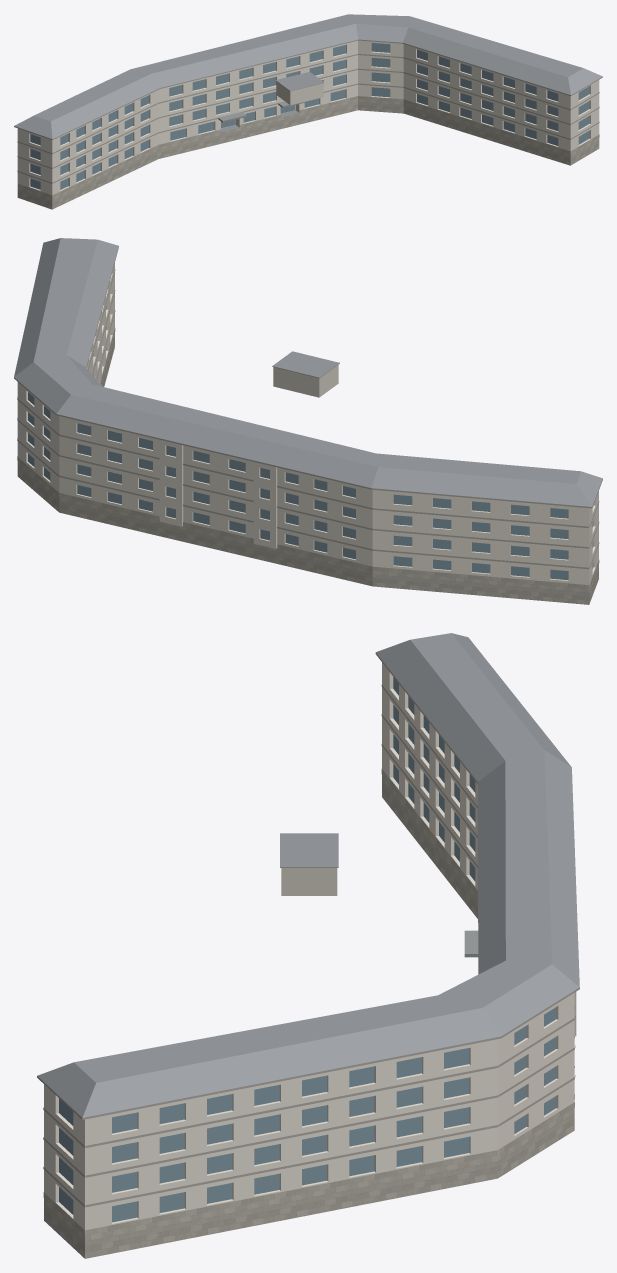
3 renders of one model, top to bottom at view 1: azimuth 30°, elevation 25°; view 2: azimuth 150°, elevation 25°; view 3: azimuth 270°, elevation 25°, orthographic. The views are drawn at different scales.
Visible parts, largest first — view 1: intlFacultyAptW11__wall, intlFacultyAptW11__roof, intlFacultyAptW11__glass, intlFacultyAptW11__base, intlFacultyAptW11__trim, intlFacultyAptW11__wall2; view 2: intlFacultyAptW11__wall, intlFacultyAptW11__roof, intlFacultyAptW11__base, intlFacultyAptW11__glass, intlFacultyAptW11__trim, intlFacultyAptW11__wall2; view 3: intlFacultyAptW11__roof, intlFacultyAptW11__wall, intlFacultyAptW11__glass, intlFacultyAptW11__base, intlFacultyAptW11__trim, intlFacultyAptW11__wall2.
Boxes of the visible parts, x1,y1,x2,y2 form: intlFacultyAptW11__wall: [17, 40, 599, 197]; intlFacultyAptW11__roof: [14, 14, 602, 138]; intlFacultyAptW11__glass: [30, 43, 589, 189]; intlFacultyAptW11__base: [17, 96, 599, 209]; intlFacultyAptW11__trim: [14, 39, 602, 183]; intlFacultyAptW11__wall2: [276, 81, 323, 105]; intlFacultyAptW11__wall: [17, 263, 598, 587]; intlFacultyAptW11__roof: [14, 238, 602, 506]; intlFacultyAptW11__base: [17, 328, 599, 604]; intlFacultyAptW11__glass: [28, 306, 593, 580]; intlFacultyAptW11__trim: [14, 246, 602, 569]; intlFacultyAptW11__wall2: [182, 365, 338, 548]; intlFacultyAptW11__roof: [37, 633, 579, 1117]; intlFacultyAptW11__wall: [44, 662, 574, 1235]; intlFacultyAptW11__glass: [59, 677, 556, 1222]; intlFacultyAptW11__base: [43, 769, 574, 1258]; intlFacultyAptW11__trim: [37, 652, 579, 1207]; intlFacultyAptW11__wall2: [281, 868, 576, 1036].
Bounding box in the file's own units: 111 × 18.5 × 53.13.
9 materials, 1 textured.
